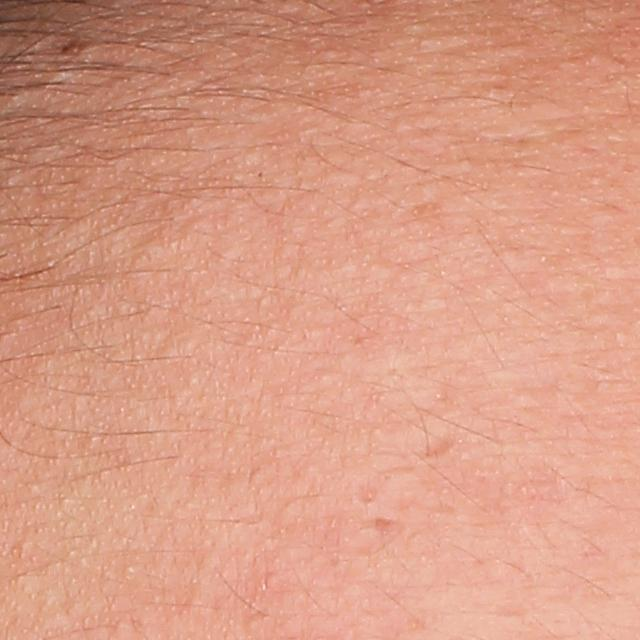atrophic_scar: (374, 516, 395, 533)
